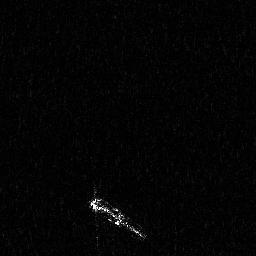ship: (85, 185, 150, 246)
